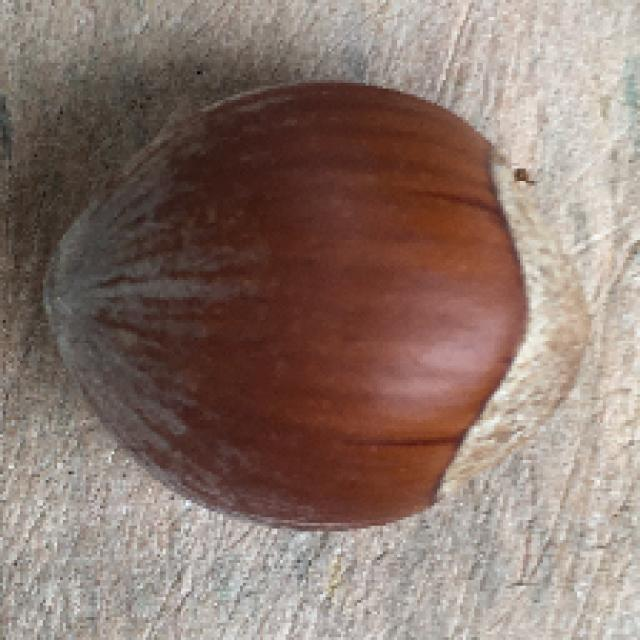qualityHazelnut: (39, 73, 596, 536)
